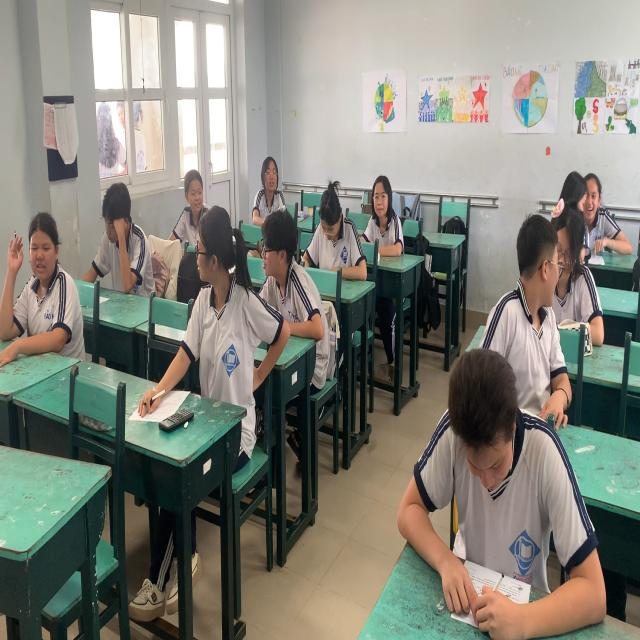cheating: (493, 214, 571, 422), (187, 204, 252, 392), (560, 165, 590, 224)
not_cheating: (405, 348, 583, 640), (10, 204, 78, 343), (87, 181, 150, 296), (256, 210, 308, 329), (308, 179, 361, 280), (363, 174, 408, 267), (587, 168, 630, 260), (248, 146, 284, 217), (172, 162, 212, 221)
